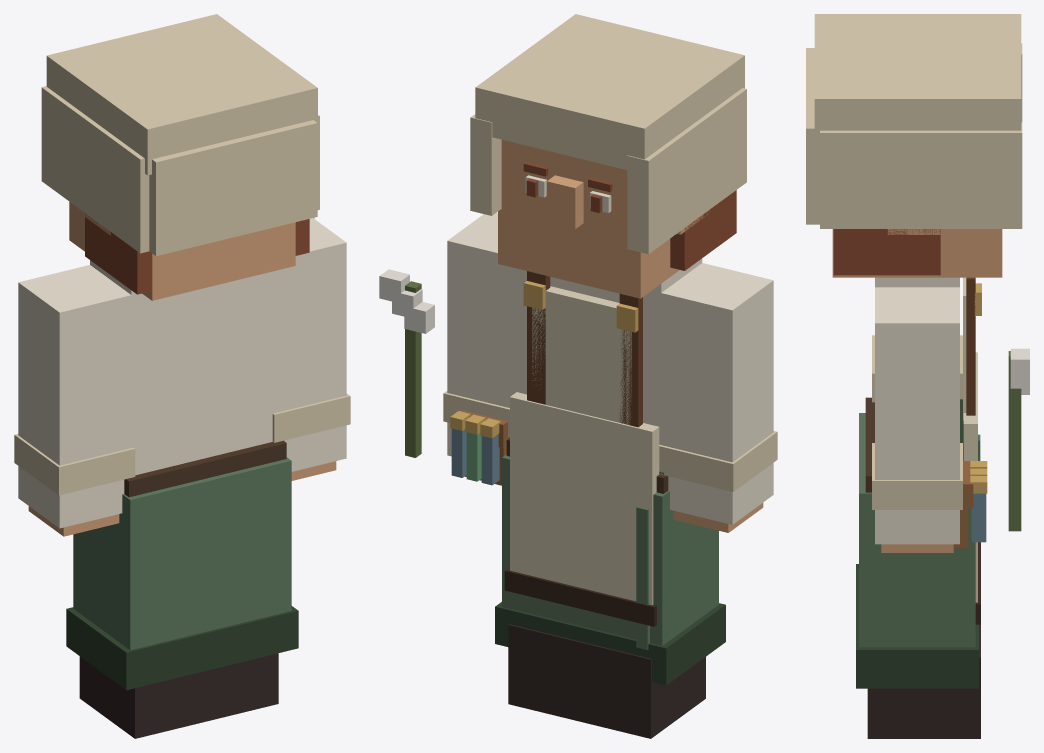
File: healer.obj
The picture shows the model from 3 angles, left to right: view 1: azimuth 30°, elevation 25°; view 2: azimuth 150°, elevation 25°; view 3: azimuth 270°, elevation 25°; orthographic projection. The views are drawn at different scales.
Visible parts, largest first — view 1: body_23_skirt_main, head_31_hood_top, body_0_chest, right_arm_17_right_arm, head_34_hood_rear, left_arm_18_left_arm, head_32_hood_left, body_24_skirt_hem, head_3_head, right_leg_27_right_boot, left_leg_28_left_boot, right_arm_19_cuff (+4 smaller); view 2: head_31_hood_top, body_36_apron_skirt, right_arm_17_right_arm, head_3_head, left_arm_18_left_arm, head_32_hood_left, body_23_skirt_main, body_35_apron_chest, right_leg_27_right_boot, body_24_skirt_hem, left_leg_28_left_boot, body_0_chest (+16 smaller); view 3: head_31_hood_top, head_33_hood_right, left_arm_18_left_arm, body_23_skirt_main, left_leg_28_left_boot, body_24_skirt_hem, head_15_hair_side_left, head_3_head, left_arm_21_cuff, equipment_left_52_herb_stems, head_34_hood_rear, body_40_shoulder_strap (+10 smaller).
Part boxes in pixels (box(x1,y1,x2,y2)): body_23_skirt_main: box(73, 457, 291, 650); head_31_hood_top: box(46, 14, 317, 175); body_0_chest: box(90, 260, 274, 475); right_arm_17_right_arm: box(18, 265, 131, 528); head_34_hood_rear: box(149, 120, 317, 256); left_arm_18_left_arm: box(275, 218, 346, 471); head_32_hood_left: box(41, 86, 149, 253); body_24_skirt_hem: box(66, 606, 298, 690); head_3_head: box(69, 202, 295, 300); right_leg_27_right_boot: box(79, 656, 205, 738); left_leg_28_left_boot: box(206, 653, 278, 721); right_arm_19_cuff: box(14, 434, 135, 495); head_31_hood_top: box(475, 14, 744, 169); body_36_apron_skirt: box(510, 392, 659, 605); right_arm_17_right_arm: box(661, 263, 773, 524); head_3_head: box(498, 139, 679, 298); left_arm_18_left_arm: box(447, 212, 518, 456); head_32_hood_left: box(627, 88, 746, 254); body_23_skirt_main: box(502, 454, 718, 645); body_35_apron_chest: box(532, 286, 631, 424); right_leg_27_right_boot: box(578, 641, 705, 738); body_24_skirt_hem: box(495, 602, 725, 685); left_leg_28_left_boot: box(508, 624, 580, 721); body_0_chest: box(518, 258, 702, 444); head_31_hood_top: box(814, 14, 1021, 146); head_33_hood_right: box(820, 122, 1022, 228); left_arm_18_left_arm: box(875, 287, 959, 544); body_23_skirt_main: box(859, 413, 975, 647); left_leg_28_left_boot: box(867, 624, 980, 738); body_24_skirt_hem: box(856, 564, 978, 688); head_15_hair_side_left: box(833, 229, 940, 275); head_3_head: box(832, 229, 1002, 277); left_arm_21_cuff: box(872, 443, 962, 509); equipment_left_52_herb_stems: box(1008, 351, 1021, 531); head_34_hood_rear: box(806, 48, 819, 224); body_40_shoulder_strap: box(966, 277, 975, 415).
Size of the model in its own units: 1.13 by 2.1 by 0.6594.
